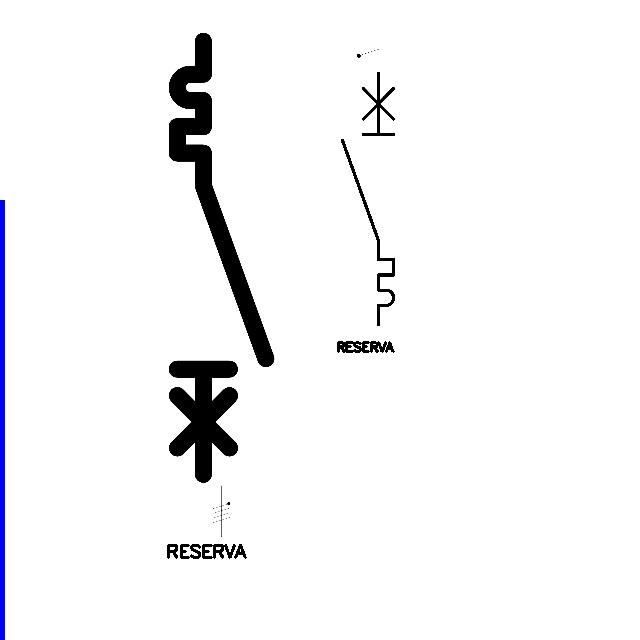interruptor_termomagnetico: (166, 30, 277, 485), (336, 66, 400, 330)
